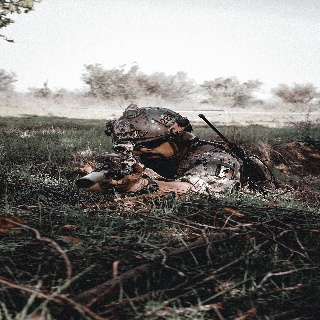rifle: (75, 139, 138, 191)
